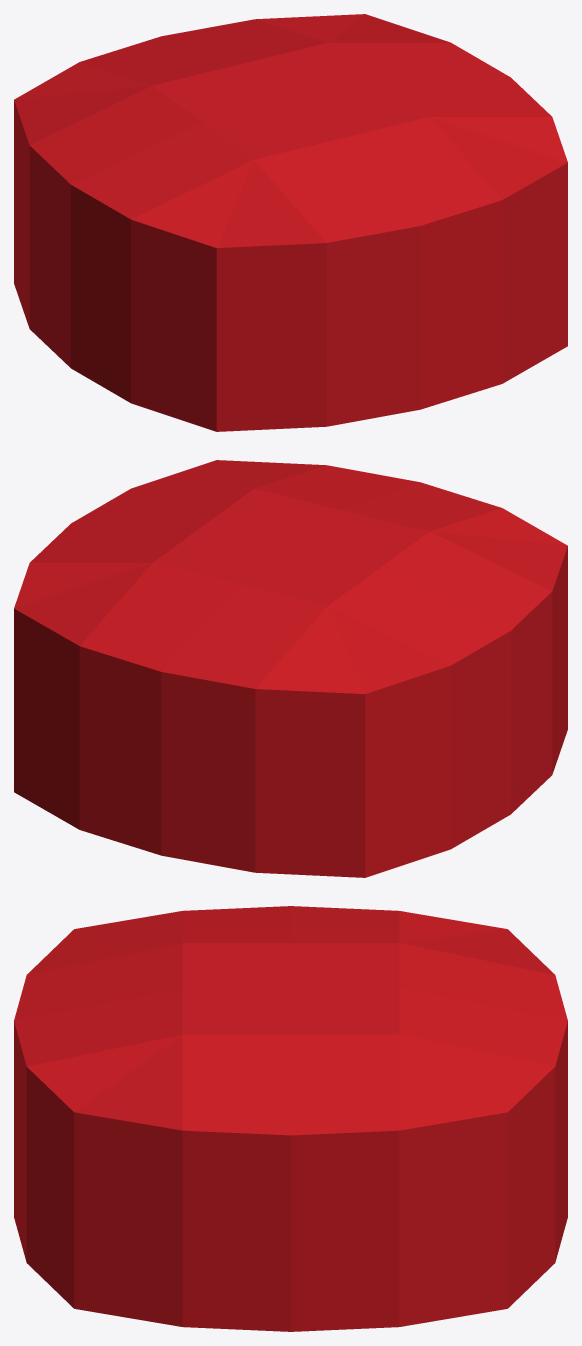
File: red_pill.fbx
The picture shows the model from 3 angles, top to bottom: view 1: azimuth 30°, elevation 25°; view 2: azimuth 150°, elevation 25°; view 3: azimuth 270°, elevation 25°; orthographic projection. The views are drawn at different scales.
Parts seen in each view (by area): view 1: Cube; view 2: Cube; view 3: Cube.
Boxes of the visible parts, <box> form: Cube: <box>14,14,567,431</box>; Cube: <box>14,460,567,877</box>; Cube: <box>14,906,567,1331</box>.
Size of the model in its own units: 125 by 58.11 by 128.
